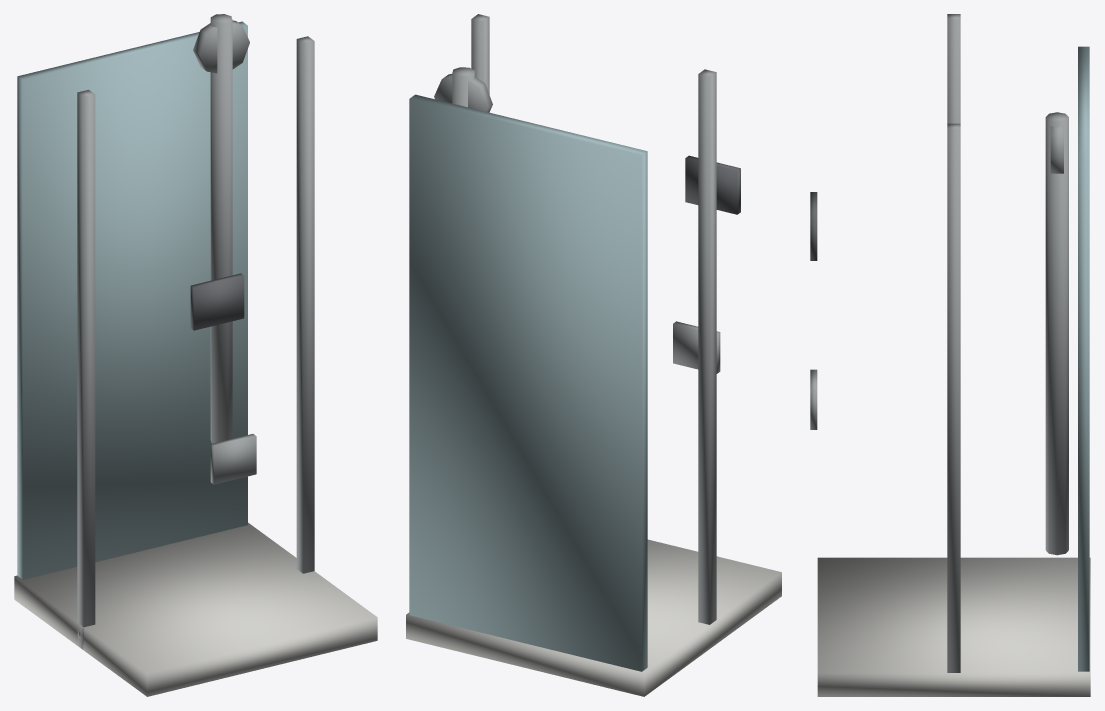
The model's file is shower_stall__weathered.glb.
3 renders of one model, left to right at view 1: azimuth 30°, elevation 25°; view 2: azimuth 150°, elevation 25°; view 3: azimuth 270°, elevation 25°, orthographic. The views are drawn at different scales.
Parts seen in each view (by area): view 1: world; view 2: world; view 3: world.
Part boxes in pixels (x1,y1,x2,y2): world: [14, 14, 377, 696]; world: [406, 14, 781, 696]; world: [810, 14, 1090, 696].
Bounding box in the file's own units: 0.82 × 1.88 × 0.8417.
